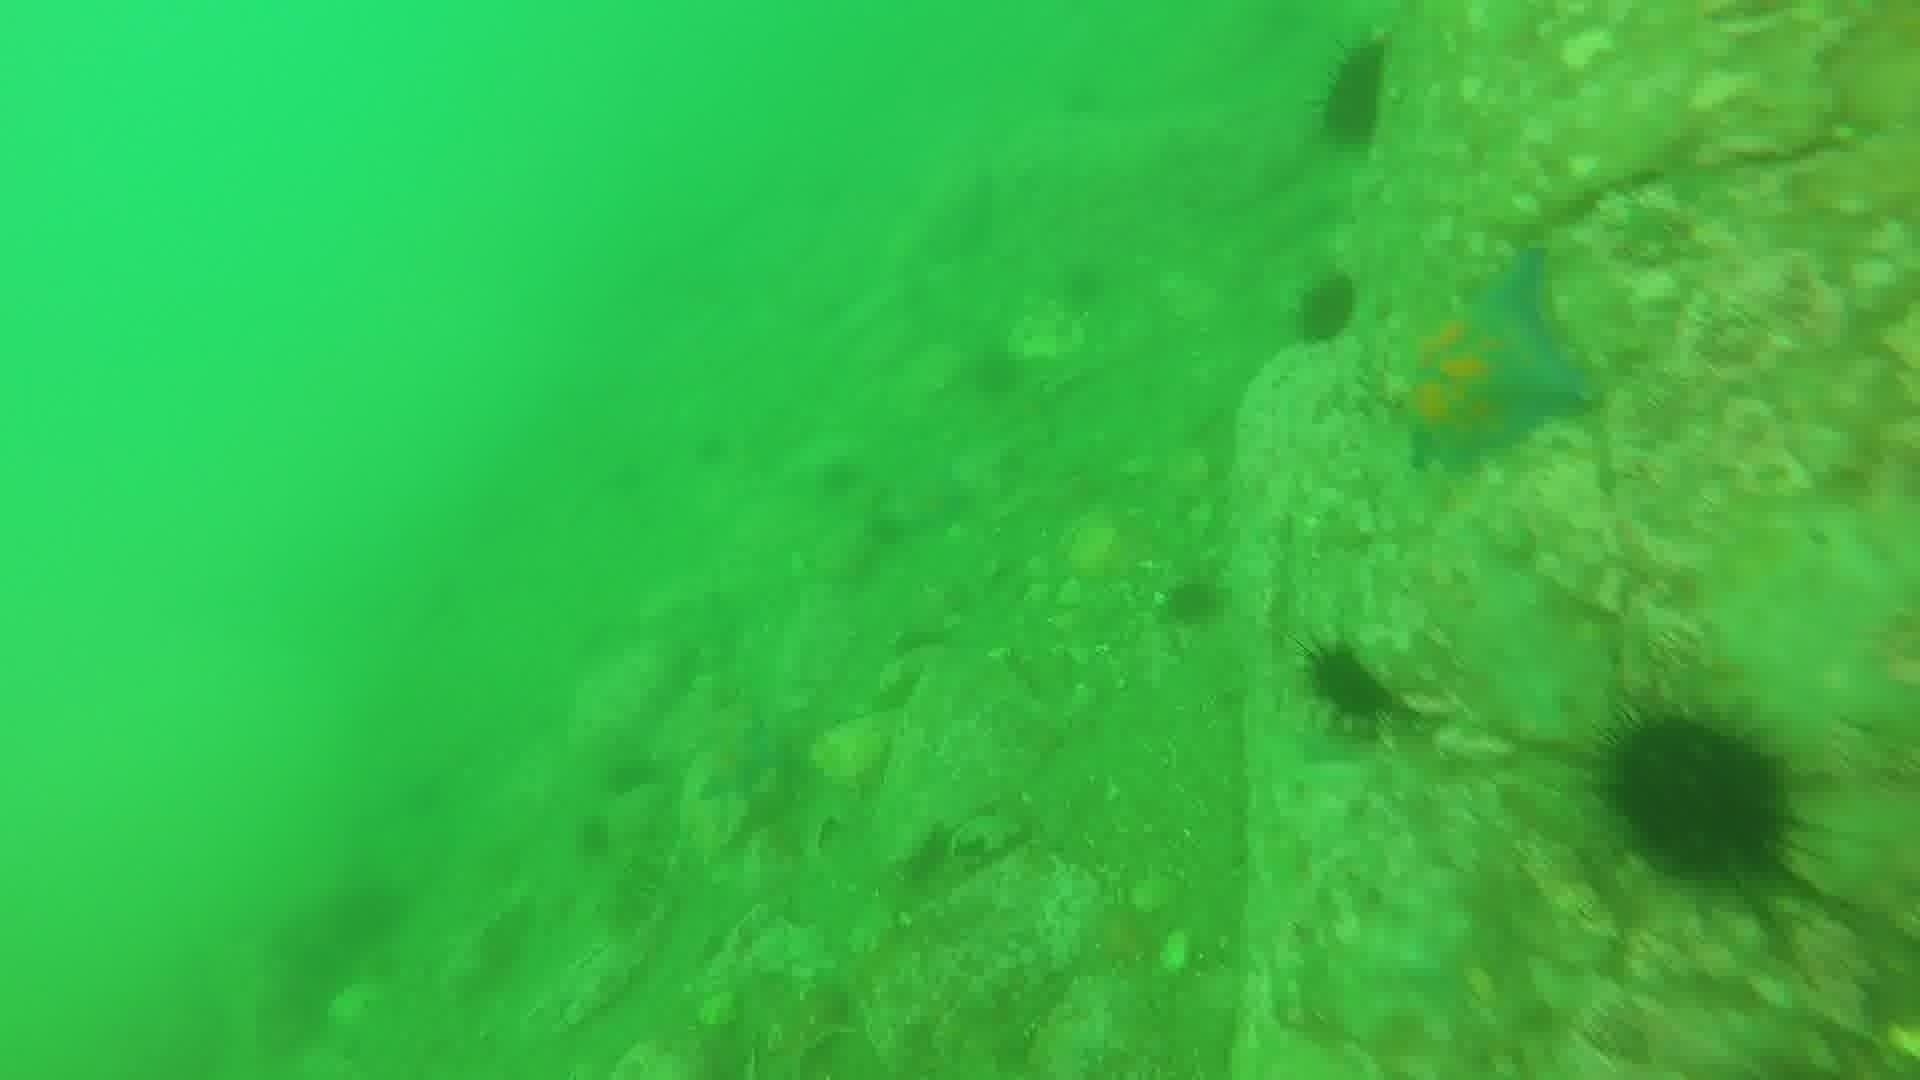echinus: (1596, 705, 1801, 886), (1298, 636, 1412, 738), (1309, 34, 1402, 156), (1288, 269, 1365, 349), (1156, 568, 1232, 632), (963, 342, 1029, 404), (597, 746, 663, 800), (570, 814, 618, 865)
starfish: (1387, 248, 1598, 476), (683, 712, 789, 808)
